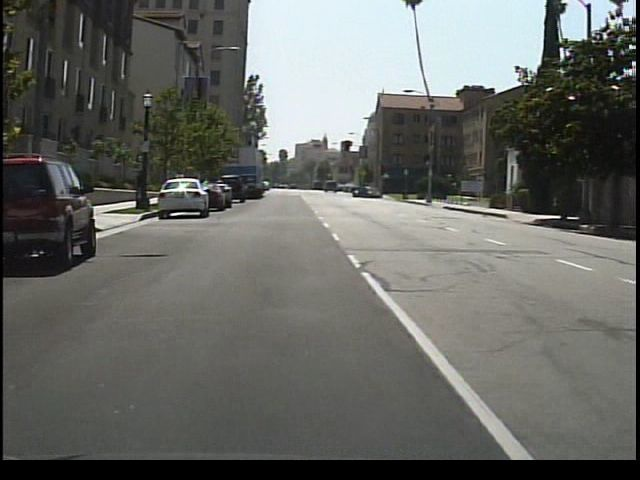person: (134, 167, 142, 202)
